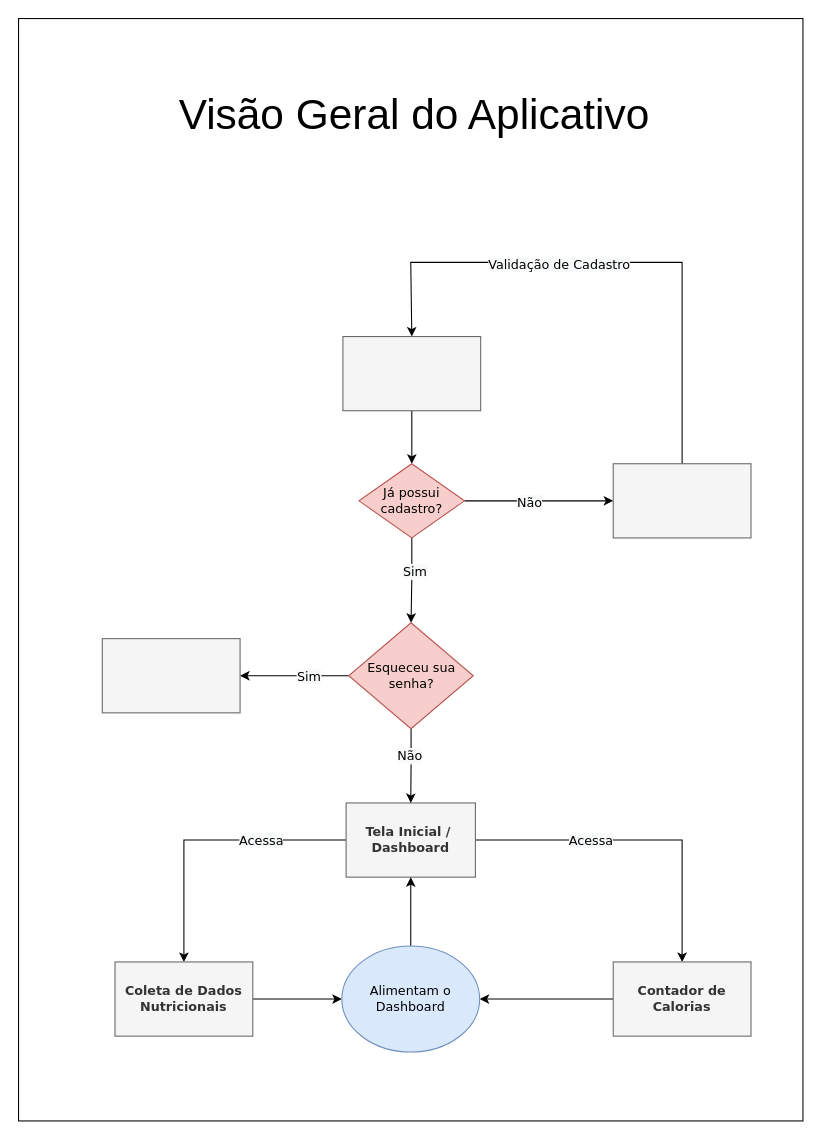
The diagram is 821 pixels wide and 1139 high, and some of its shapes have lost their labels. Here are the shapes that lost their labels. From the top down, the centre of each, then its label:
At point (411, 373): "Login".
At point (681, 500): "Tela de Cadastro".
At point (170, 675): "Tela de Recuperação de Senha".
